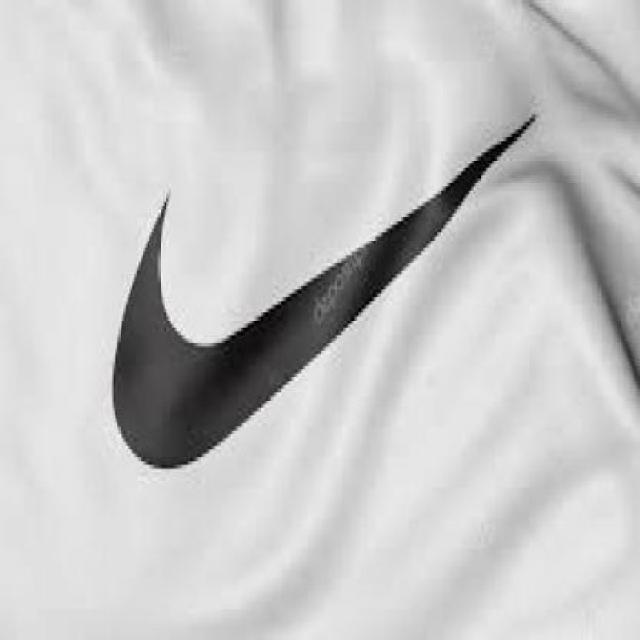Nike: (100, 107, 556, 469)
